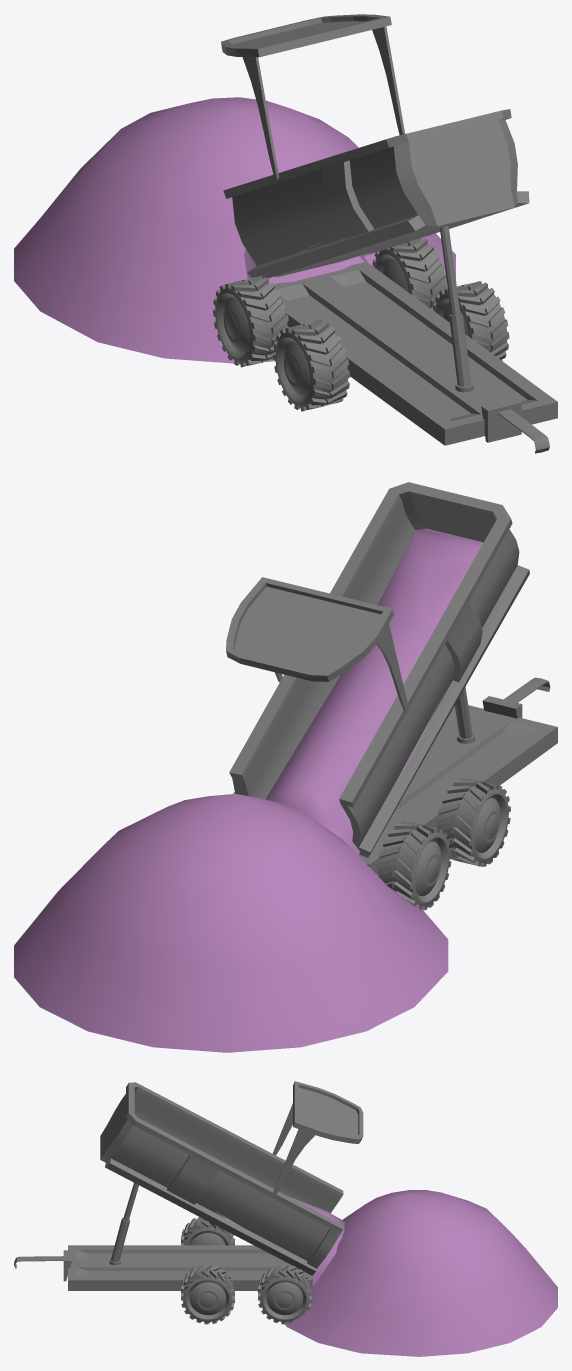
File: BenneTracteur_Ouvert02.fbx
3 views of the same model, one above another, from view 1: azimuth 30°, elevation 25°; view 2: azimuth 150°, elevation 25°; view 3: azimuth 270°, elevation 25° (orthographic). The views are drawn at different scales.
Visible parts, largest first — view 1: BenneTracteur_Ouvert02; view 2: BenneTracteur_Ouvert02; view 3: BenneTracteur_Ouvert02.
Boxes of the visible parts, x1,y1,x2,y2 form: BenneTracteur_Ouvert02: (14,14,557,453); BenneTracteur_Ouvert02: (14,482,557,1052); BenneTracteur_Ouvert02: (14,1081,557,1356).
Bounding box in the file's own units: 1035 × 805 × 2001.
